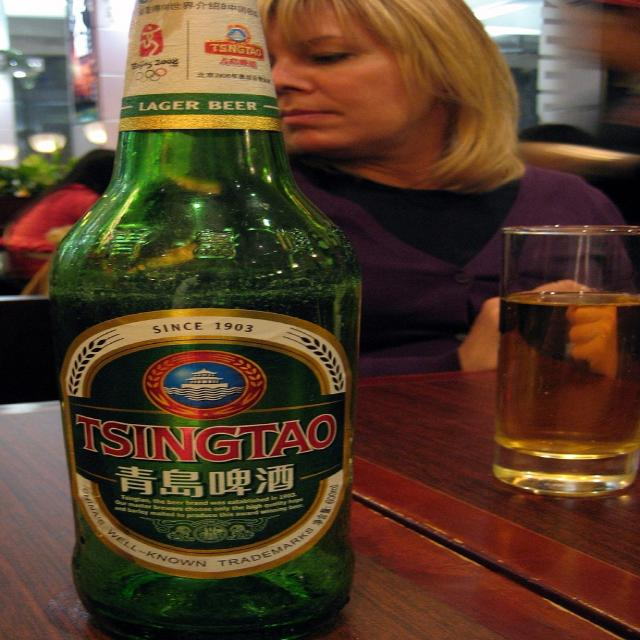tsingtao: (60, 310, 350, 582)
